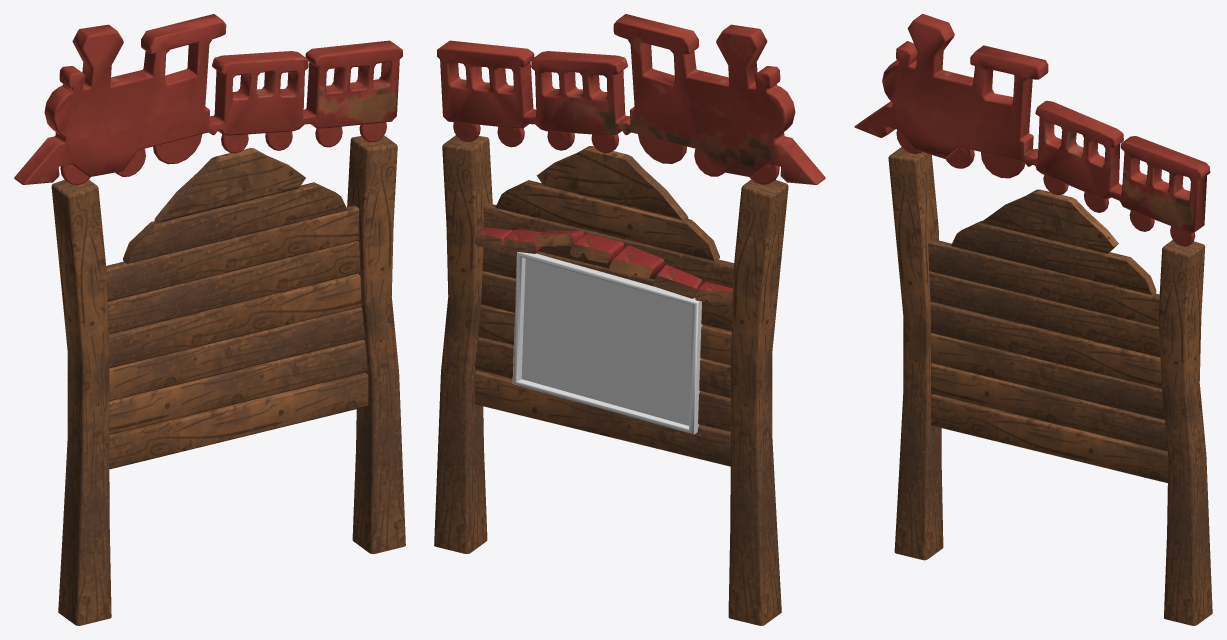
Rendered from Loco_Information_Stand.fbx.
3 renders of one model, left to right at view 1: azimuth 30°, elevation 25°; view 2: azimuth 150°, elevation 25°; view 3: azimuth 330°, elevation 25°, orthographic. The views are drawn at different scales.
Parts seen in each view (by area): view 1: Loco_Information_Stand, Loco_Information_Stand.001; view 2: Loco_Information_Stand, Loco_Information_Stand.001; view 3: Loco_Information_Stand, Loco_Information_Stand.001.
Boxes of the visible parts, x1,y1,x2,y2 form: Loco_Information_Stand: (51, 135, 405, 625); Loco_Information_Stand.001: (14, 14, 402, 184); Loco_Information_Stand: (434, 135, 788, 625); Loco_Information_Stand.001: (437, 14, 825, 184); Loco_Information_Stand: (888, 147, 1212, 625); Loco_Information_Stand.001: (854, 14, 1210, 246).
Bounding box in the file's own units: 277 × 406 × 35.27.
